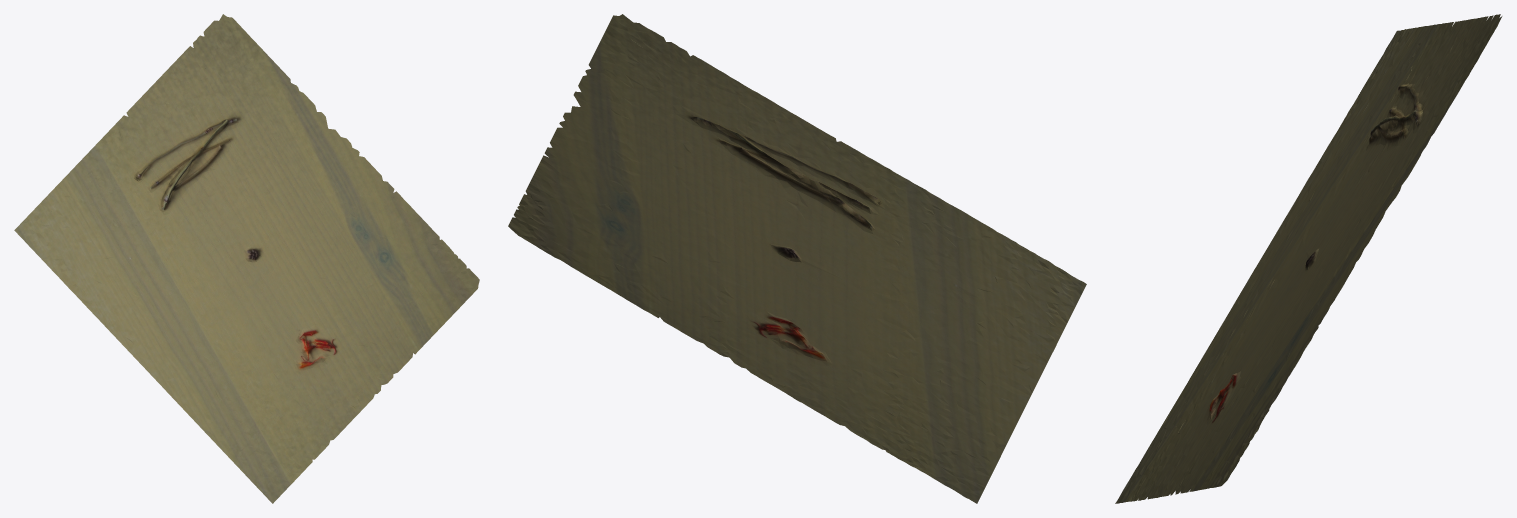
File: mix.glb
3 renders of one model, left to right at view 1: azimuth 30°, elevation 25°; view 2: azimuth 150°, elevation 25°; view 3: azimuth 270°, elevation 25°, orthographic. The views are drawn at different scales.
Size of the model in its own units: 2.88 by 2.52 by 1.62.
Materials: 1 (1 with a texture image).
